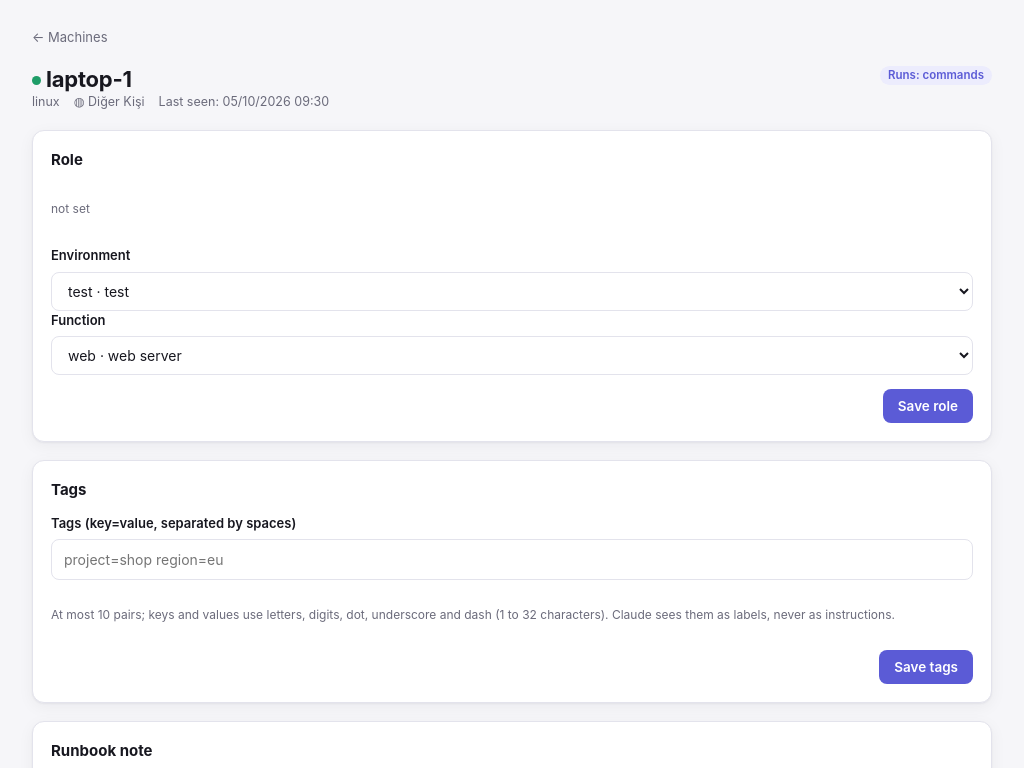
it: the role editor on the machine page › shows an owner the two lists with the current role and saves it, then reads the machines again
Expected: the dropdown labelled "Function" shows "web · web server", [51, 336, 973, 375]
Step 1. Select "production · production" in the dropdown labelled "Environment" → (512, 291), box [51, 272, 973, 311]
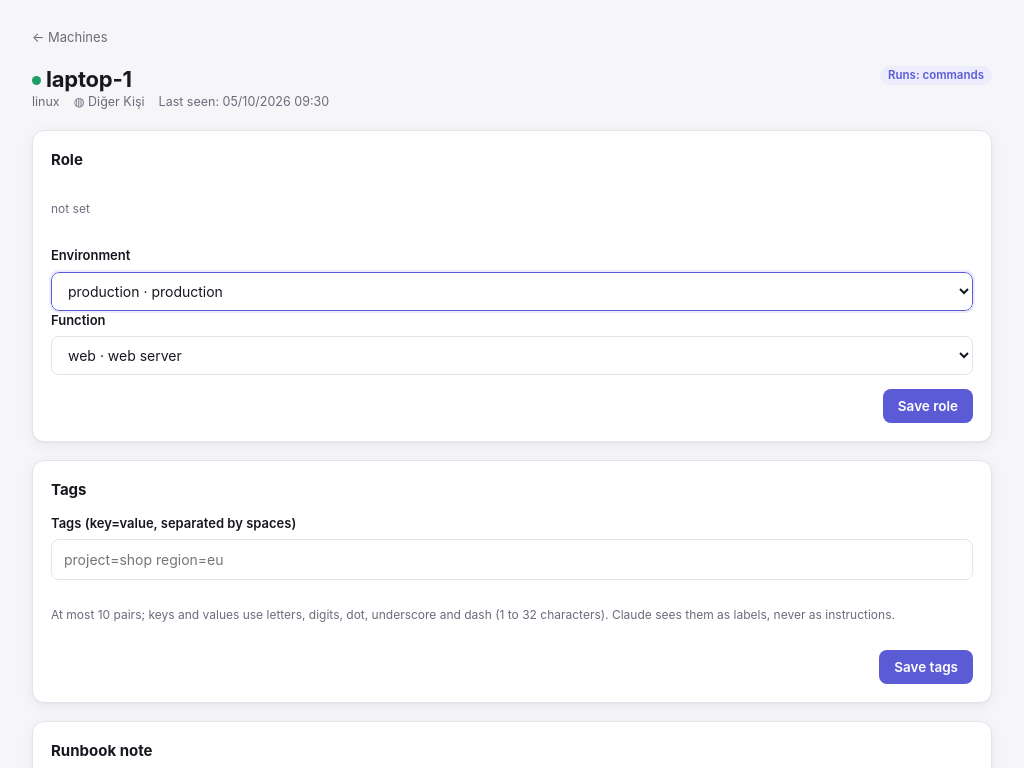
Step 2. Select "database · database server" in the dropdown labelled "Function" → (512, 356), box [51, 336, 973, 375]
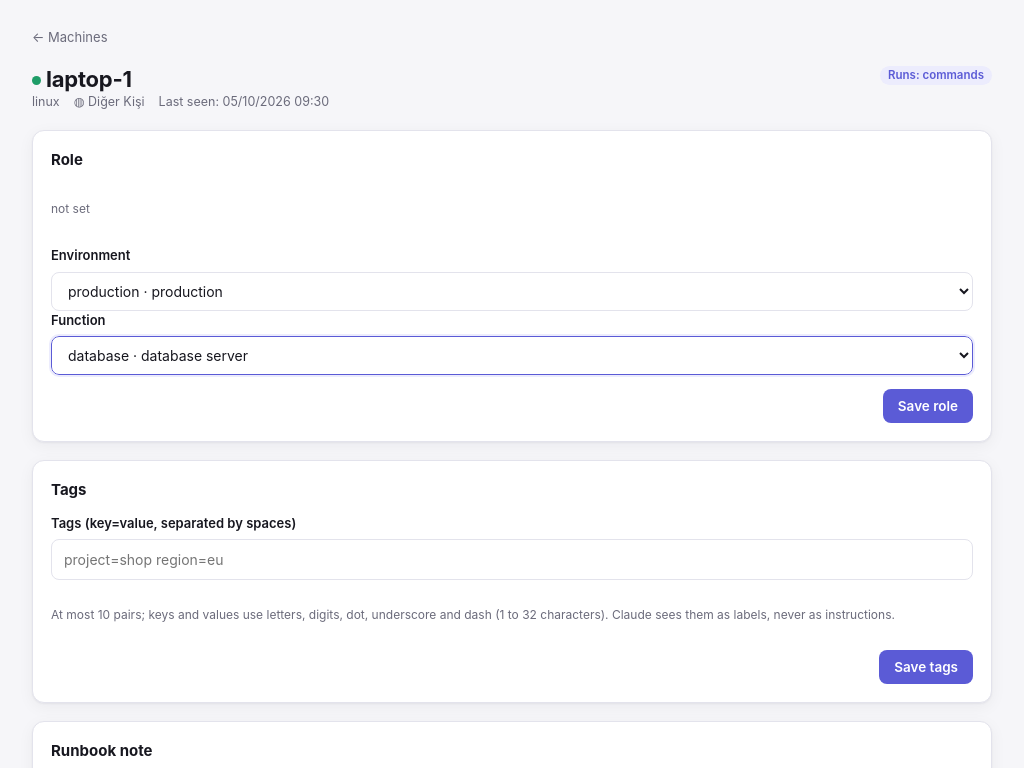
Step 3. Click the button "Save role" → (928, 406), box [883, 389, 973, 423]
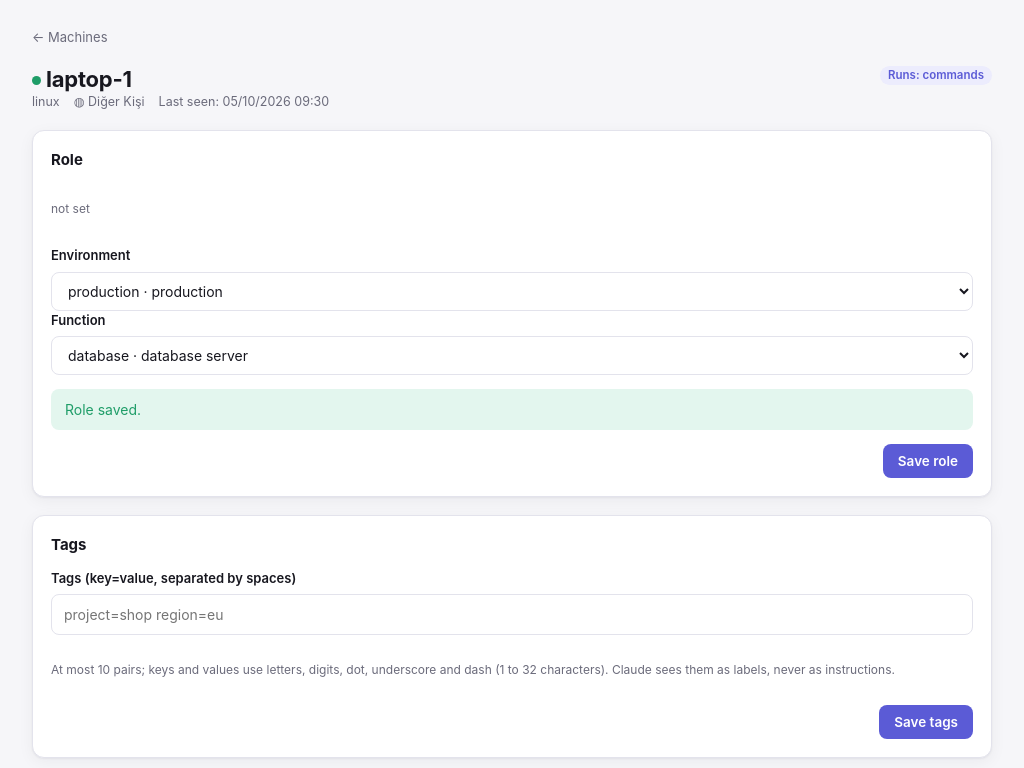
Now the text "Role saved." is shown, box [51, 389, 973, 430]
